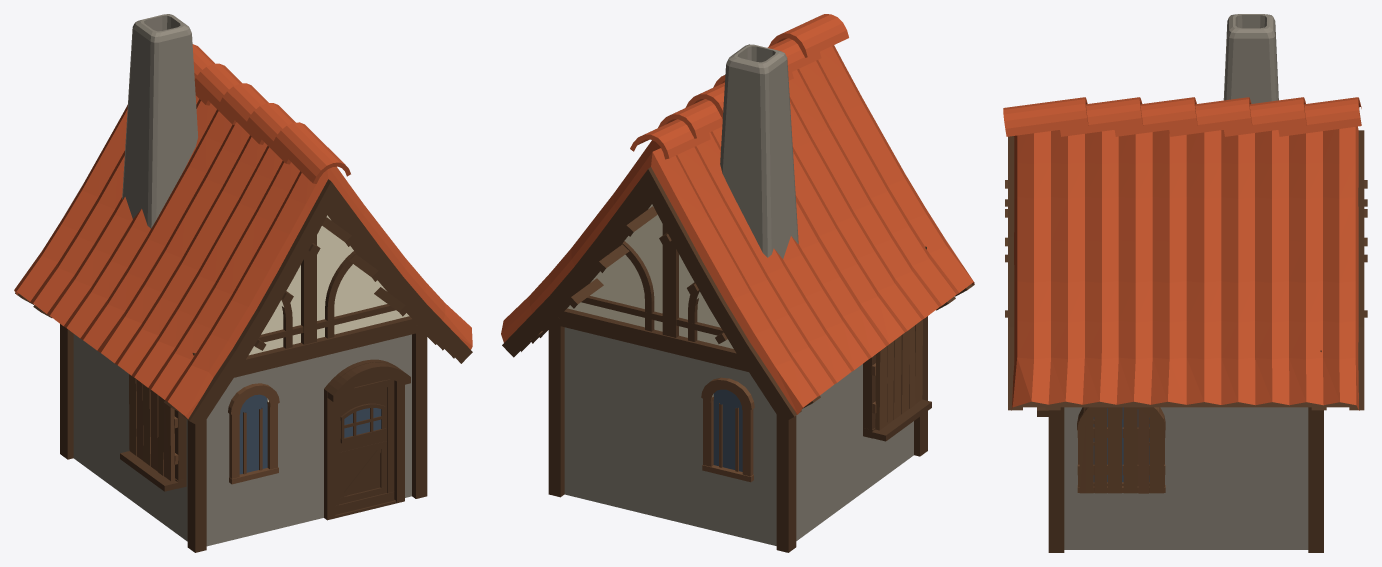
File: cottage_stone.obj
3 views of the same model, side by side, from view 1: azimuth 30°, elevation 25°; view 2: azimuth 150°, elevation 25°; view 3: azimuth 270°, elevation 25° (orthographic). The views are drawn at different scales.
Size of the model in its own units: 5.51 by 7.64 by 5.62.
